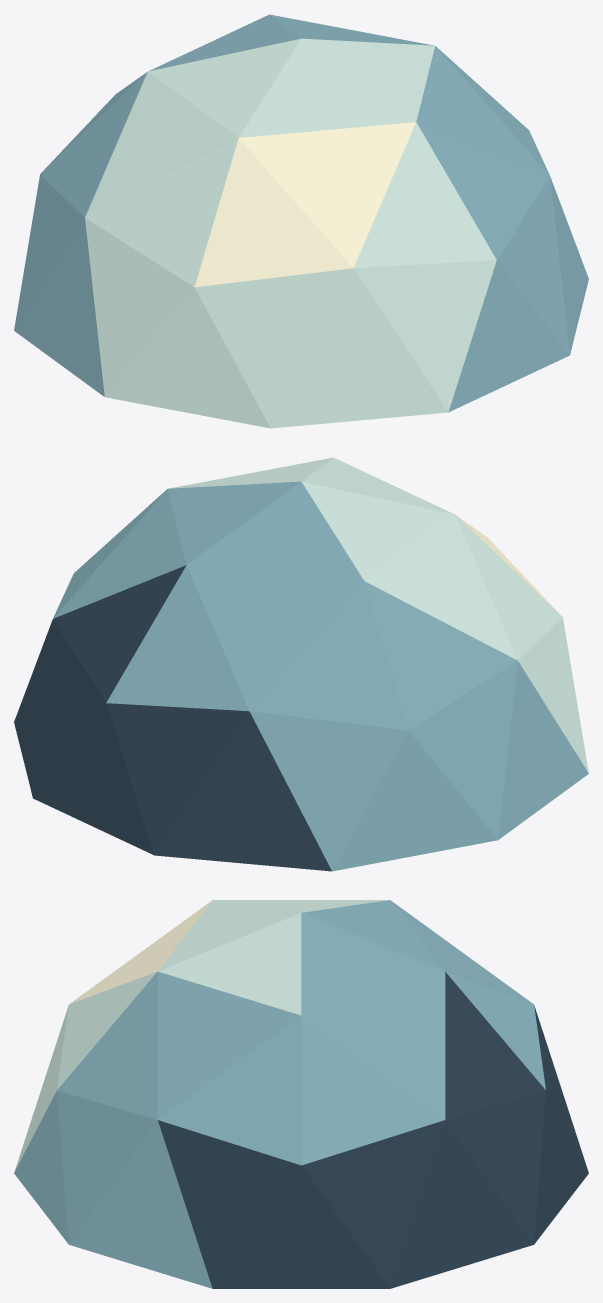
File: ward_dome.glb
3 renders of one model, top to bottom at view 1: azimuth 30°, elevation 25°; view 2: azimuth 150°, elevation 25°; view 3: azimuth 270°, elevation 25°, orthographic. The views are drawn at different scales.
Parts seen in each view (by area): view 1: ward_dome; view 2: ward_dome; view 3: ward_dome.
Boxes of the visible parts, bbox=[...] form: ward_dome: bbox=[14, 14, 588, 428]; ward_dome: bbox=[14, 457, 588, 871]; ward_dome: bbox=[14, 900, 588, 1288].
Size of the model in its own units: 1.9 by 1 by 2.
